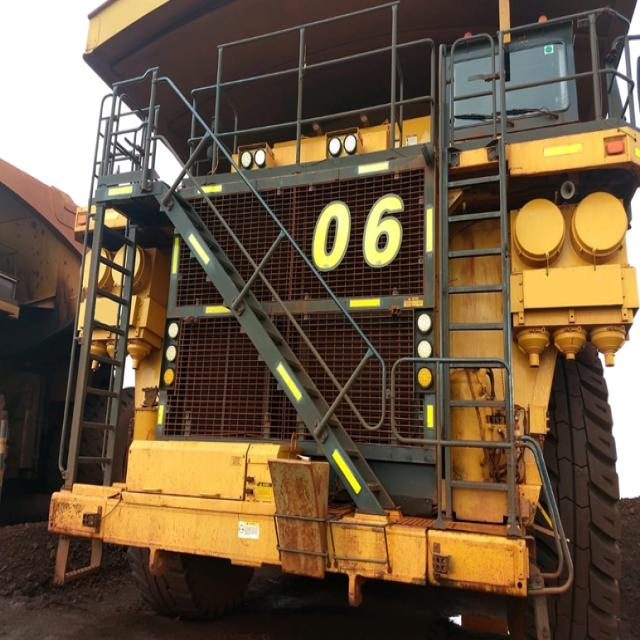dump_truck: (61, 4, 625, 636)
